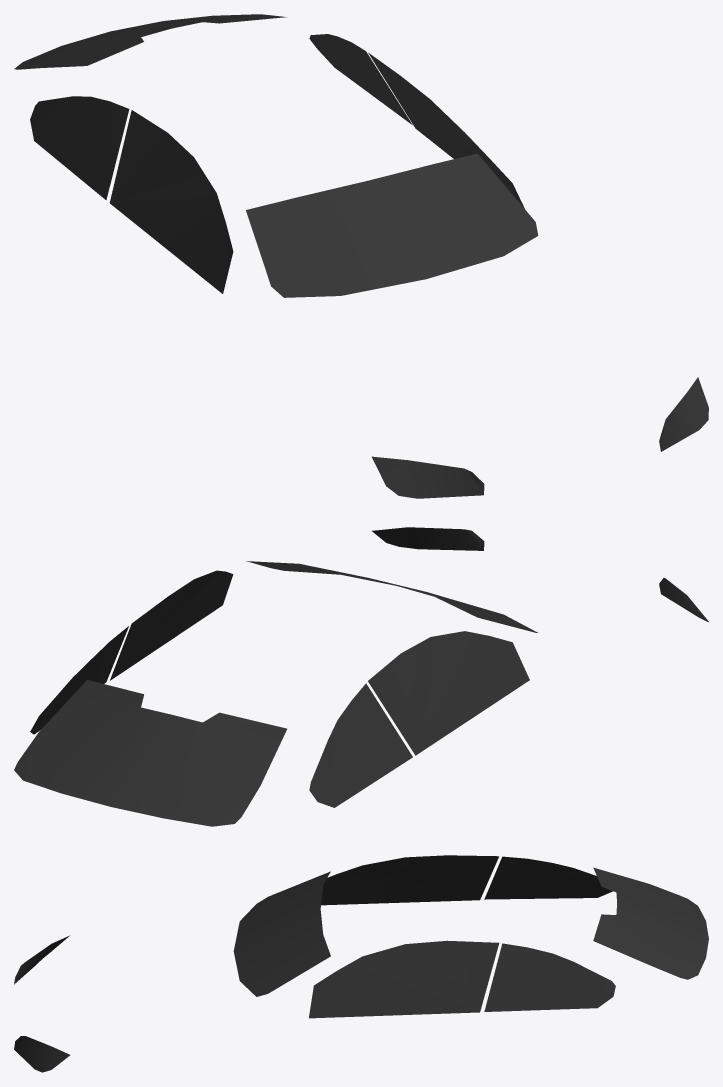
The model's file is XZ_glass_d2.obj.
3 renders of one model, top to bottom at view 1: azimuth 30°, elevation 25°; view 2: azimuth 150°, elevation 25°; view 3: azimuth 270°, elevation 25°, orthographic. The views are drawn at different scales.
Visible parts, largest first — view 1: XZ_glass; view 2: XZ_glass; view 3: XZ_glass.
Part boxes in pixels (box(x1,y1,x2,y2)): XZ_glass: box(14, 14, 708, 498); XZ_glass: box(14, 527, 708, 826); XZ_glass: box(14, 855, 708, 1072).
Bounding box in the file's own units: 1.57 × 0.7323 × 3.85.
Materials: 1 (1 with a texture image).
